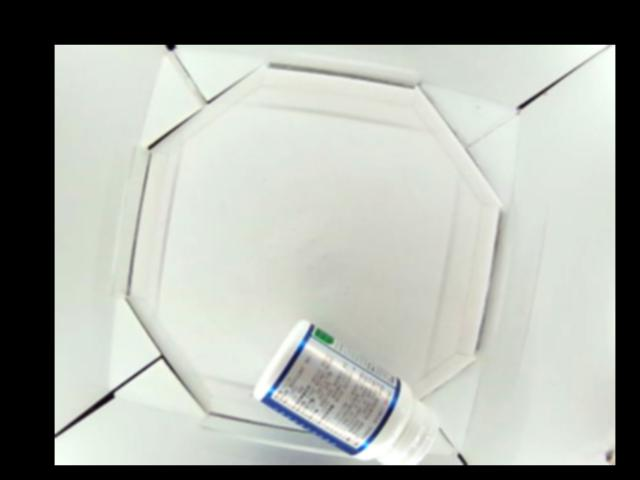Bottle: (250, 320, 440, 465)
